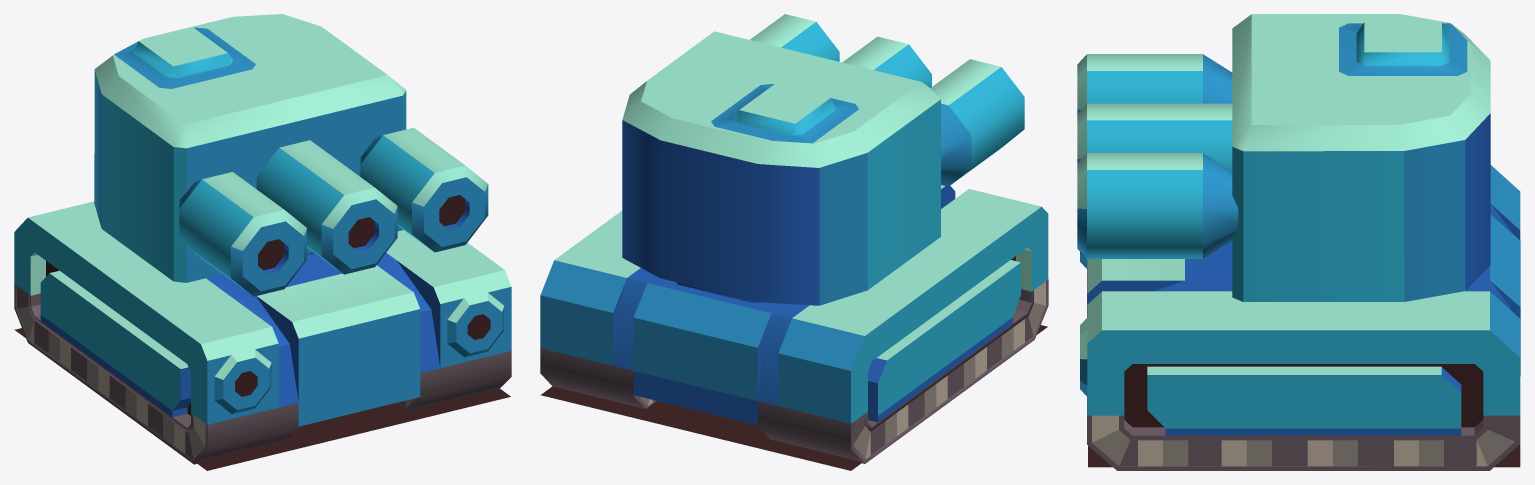
The model's file is MegaTankMesh.AzureAsteroid.glb.
3 renders of one model, left to right at view 1: azimuth 30°, elevation 25°; view 2: azimuth 150°, elevation 25°; view 3: azimuth 270°, elevation 25°, orthographic. The views are drawn at different scales.
Parts seen in each view (by area): view 1: MegaTankMesh.AzureAsteroid; view 2: MegaTankMesh.AzureAsteroid; view 3: MegaTankMesh.AzureAsteroid.
Part boxes in pixels (left/top/right/bottom): MegaTankMesh.AzureAsteroid: left=14, top=14, right=511, bottom=470; MegaTankMesh.AzureAsteroid: left=540, top=14, right=1048, bottom=470; MegaTankMesh.AzureAsteroid: left=1077, top=14, right=1520, bottom=470.
Bounding box in the file's own units: 2 × 1.86 × 2.25.
1 material, 1 textured.
